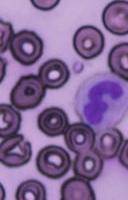N: (75, 72, 128, 132)
